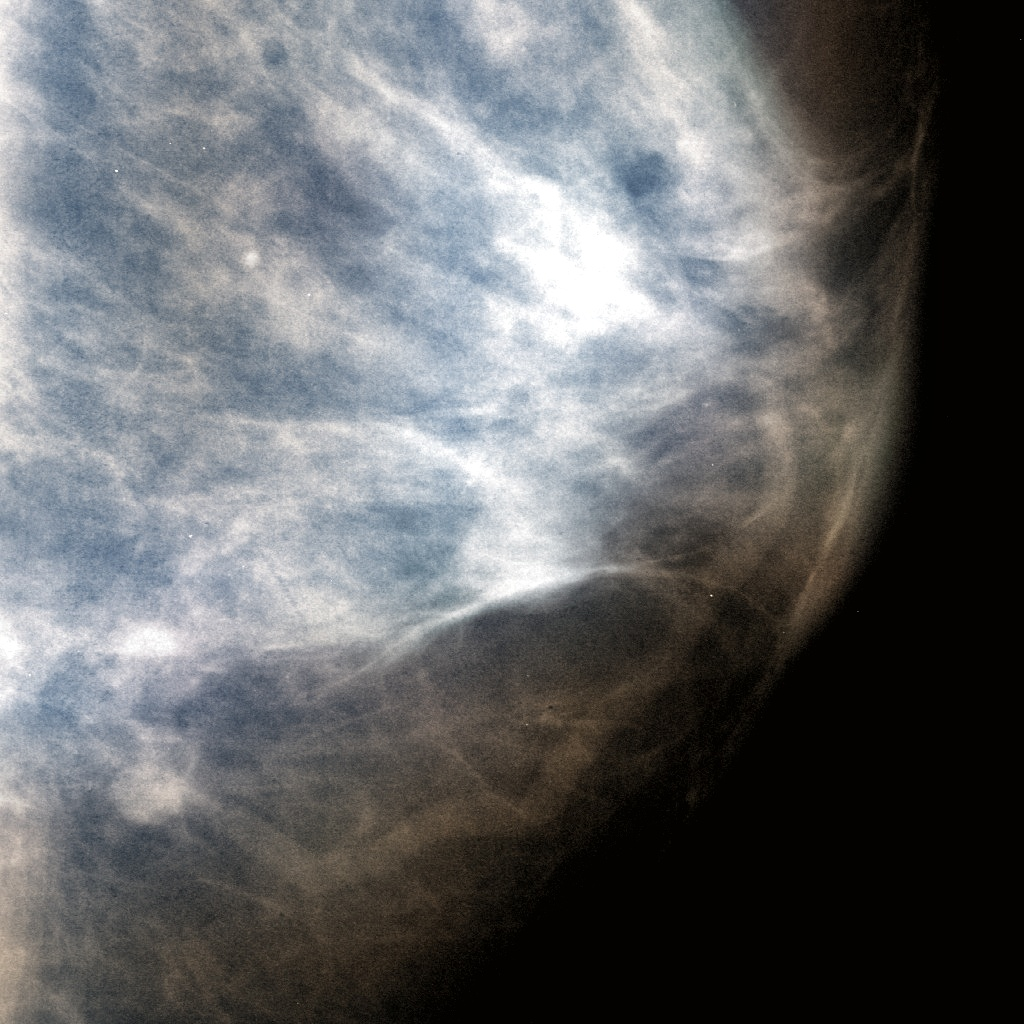tumor: (395, 398, 629, 626)
